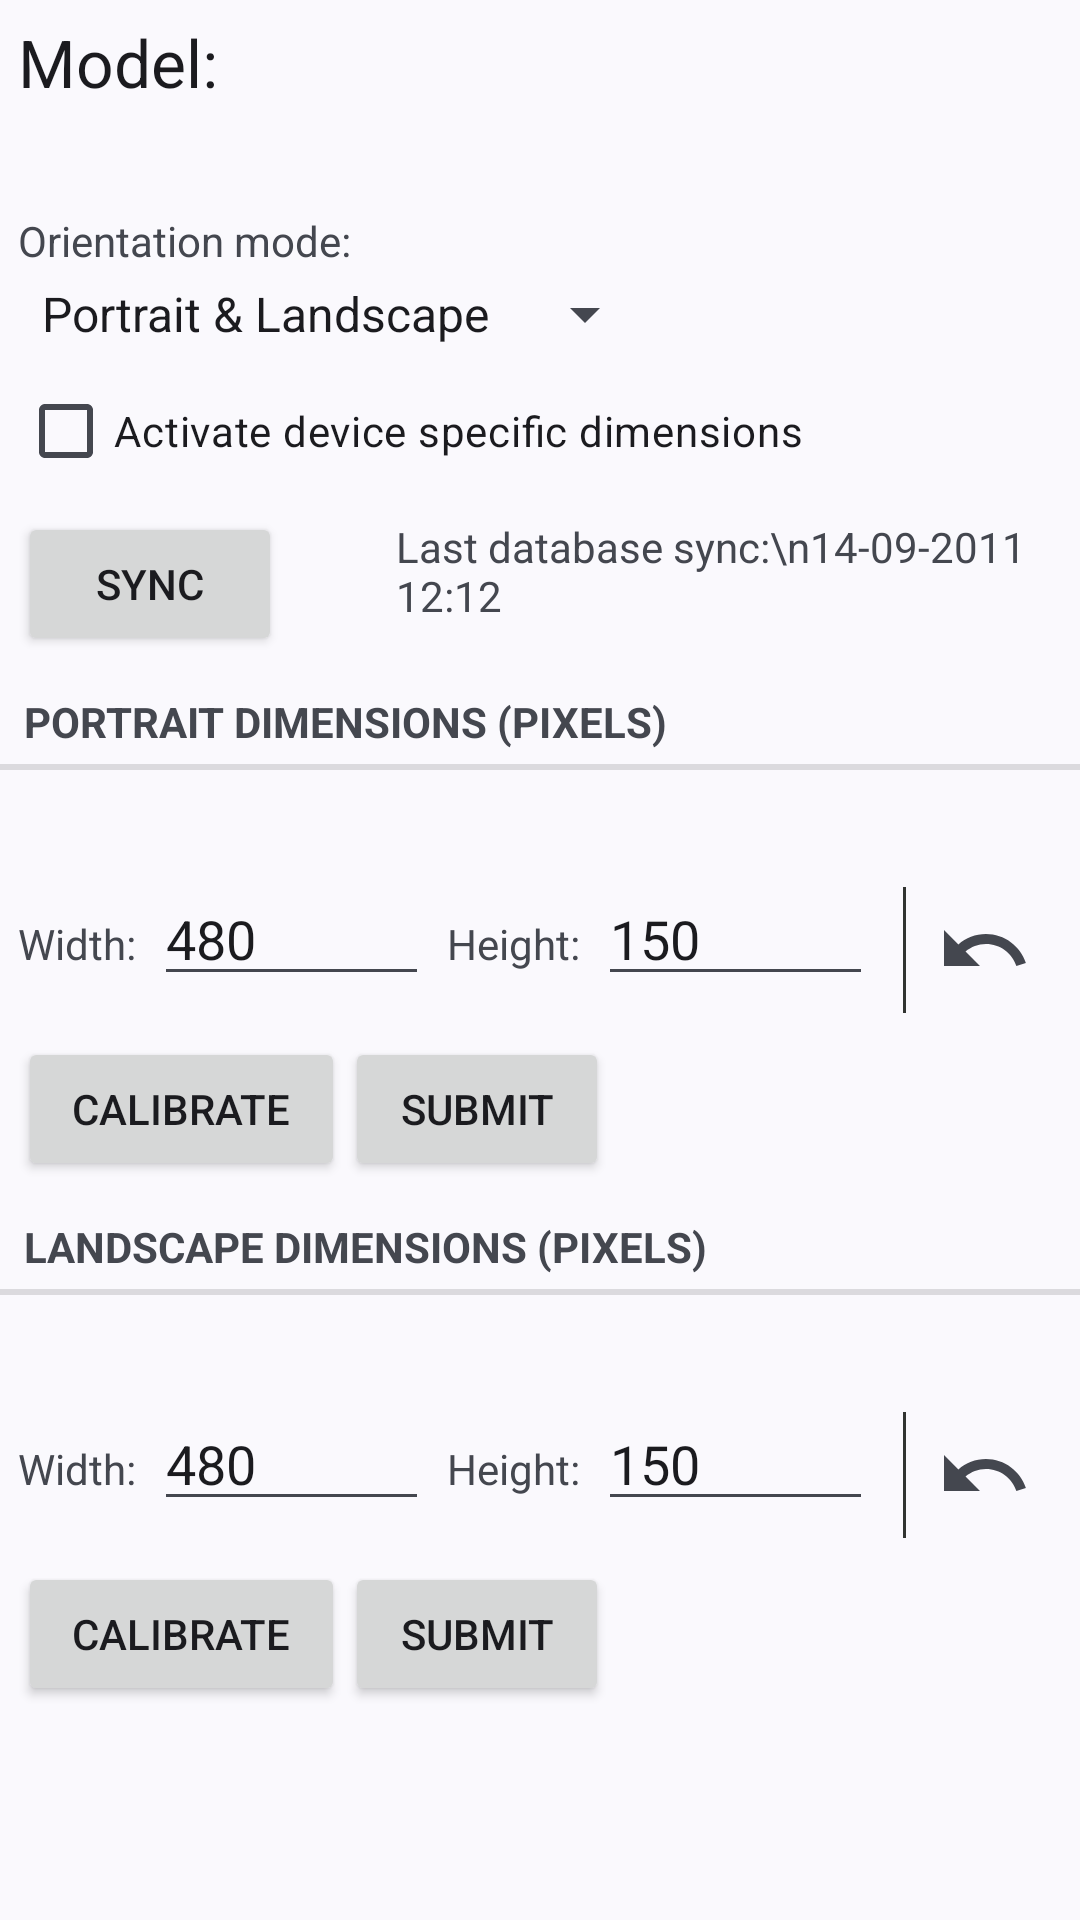

Icon bounding boxes for this 1080 x 1920 phone screenshot, format {"left": x1, "top": y1, "right": x2, "bottom": y2}:
undo: {"left": 944, "top": 930, "right": 1026, "bottom": 966}, {"left": 944, "top": 1455, "right": 1026, "bottom": 1491}
